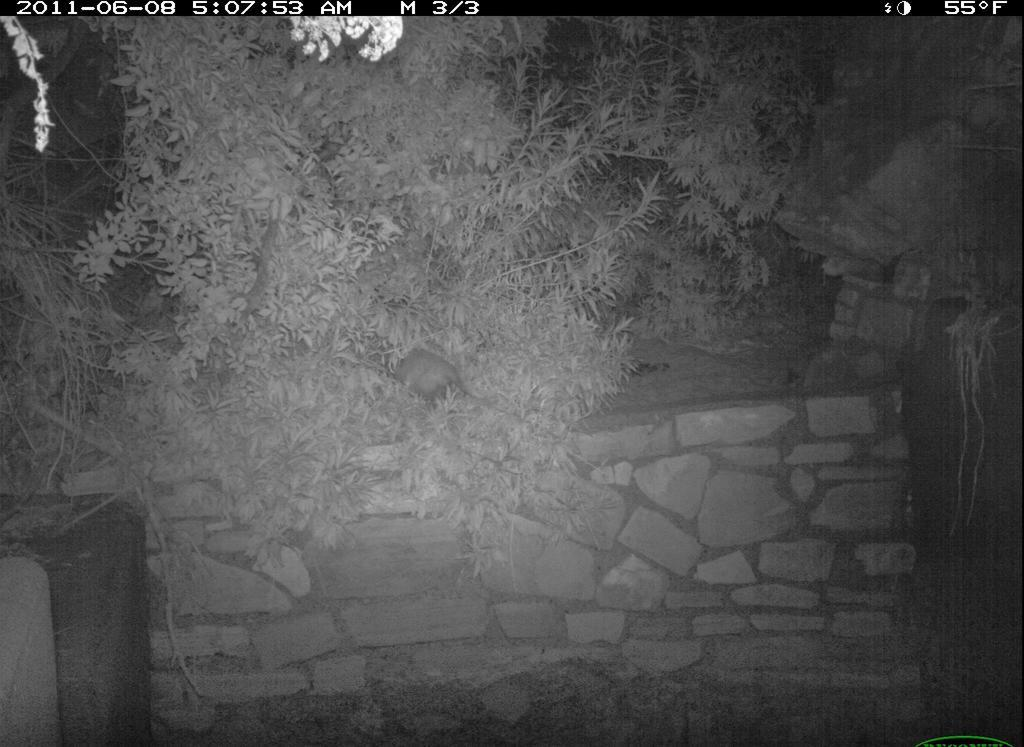opossum: (374, 333, 493, 414)
